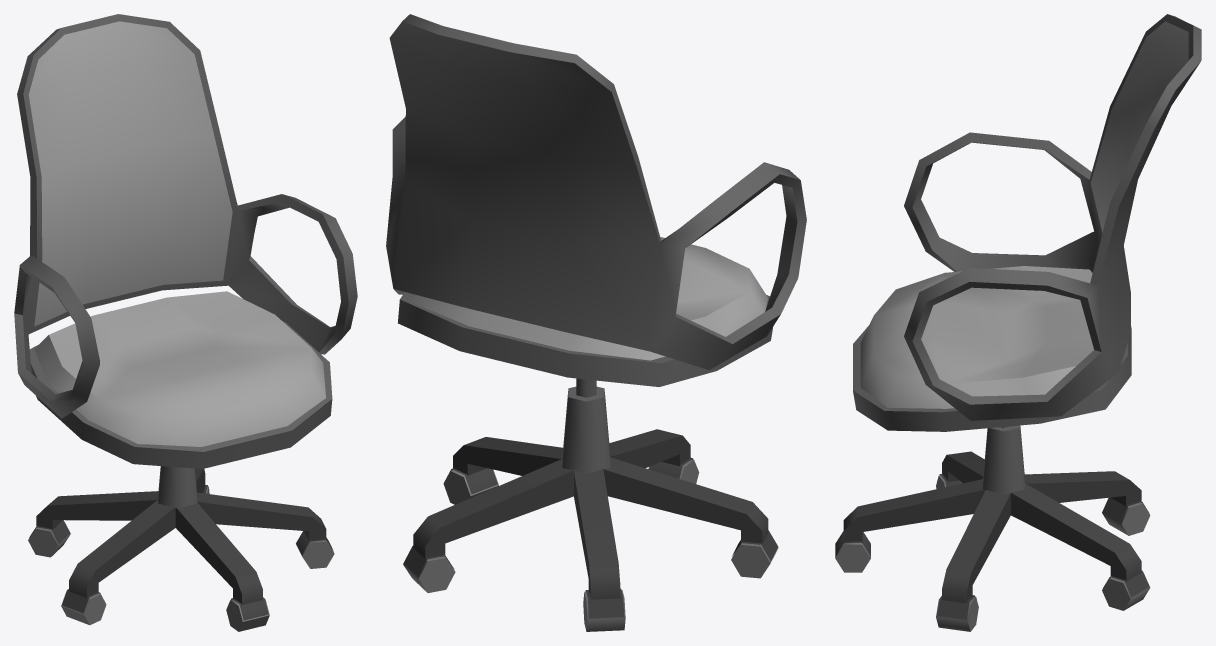
The model's file is office_chair_012.glb.
3 renders of one model, left to right at view 1: azimuth 30°, elevation 25°; view 2: azimuth 150°, elevation 25°; view 3: azimuth 270°, elevation 25°, orthographic. The views are drawn at different scales.
Parts seen in each view (by area): view 1: office_chair_012; view 2: office_chair_012; view 3: office_chair_012.
Part boxes in pixels (box(x1,y1,x2,y2)): office_chair_012: box(14, 14, 357, 631); office_chair_012: box(386, 14, 806, 631); office_chair_012: box(835, 14, 1201, 631).
Bounding box in the file's own units: 0.654 × 1.07 × 0.6748.
Materials: 1 (1 with a texture image).
